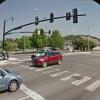Traffic light: (28, 7, 100, 30)
